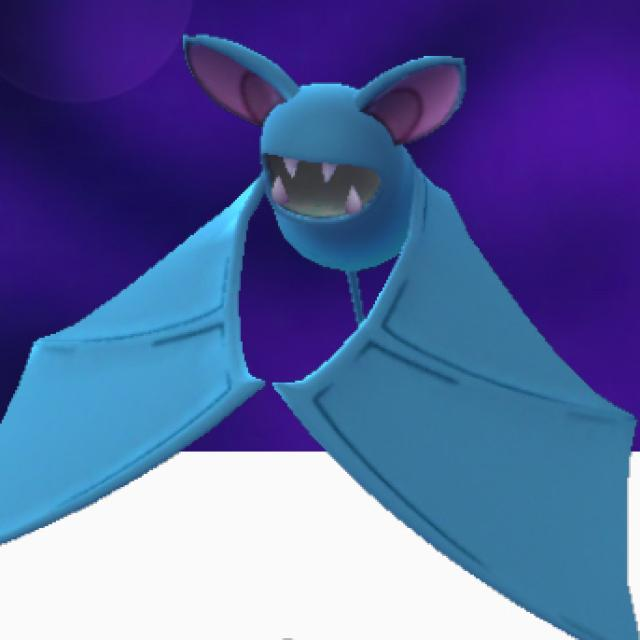Zubat: (138, 33, 521, 452)
